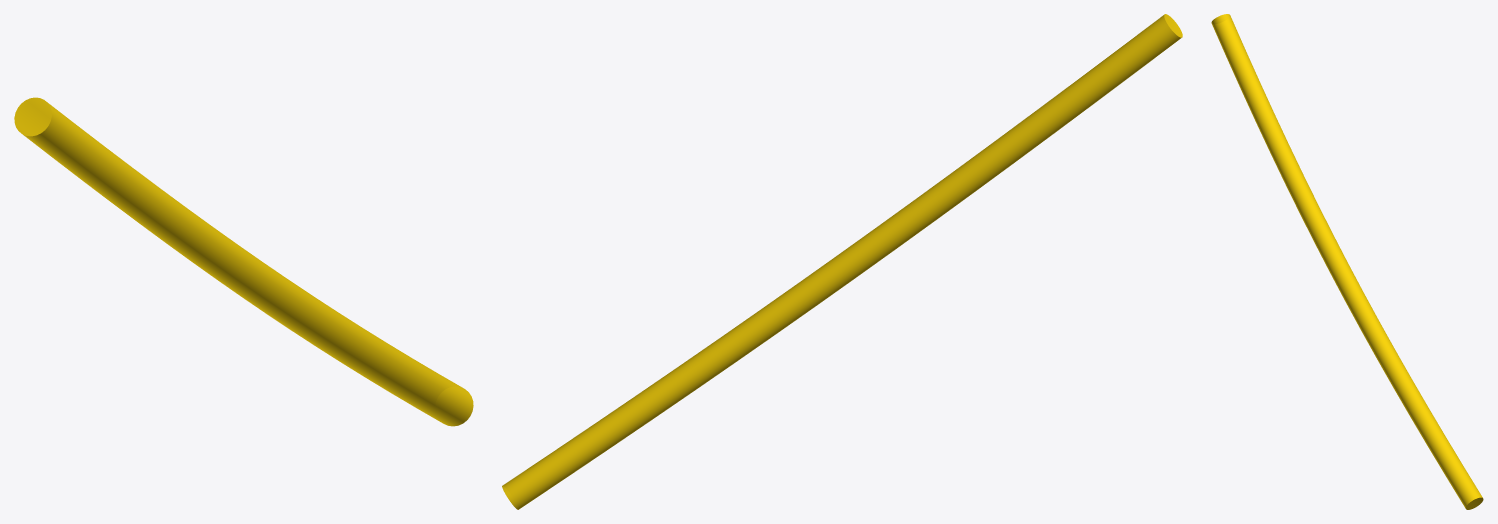
File: Event_421364160_track_42.fbx
The picture shows the model from 3 angles, left to right: view 1: azimuth 30°, elevation 25°; view 2: azimuth 150°, elevation 25°; view 3: azimuth 270°, elevation 25°; orthographic projection. The views are drawn at different scales.
Visible parts, largest first — view 1: Model; view 2: Model; view 3: Model.
Part boxes in pixels (bbox=[...]): Model: bbox=[14, 97, 473, 426]; Model: bbox=[502, 14, 1182, 509]; Model: bbox=[1211, 14, 1483, 509].
Bounding box in the file's own units: 0.7931 × 0.7234 × 0.533.
